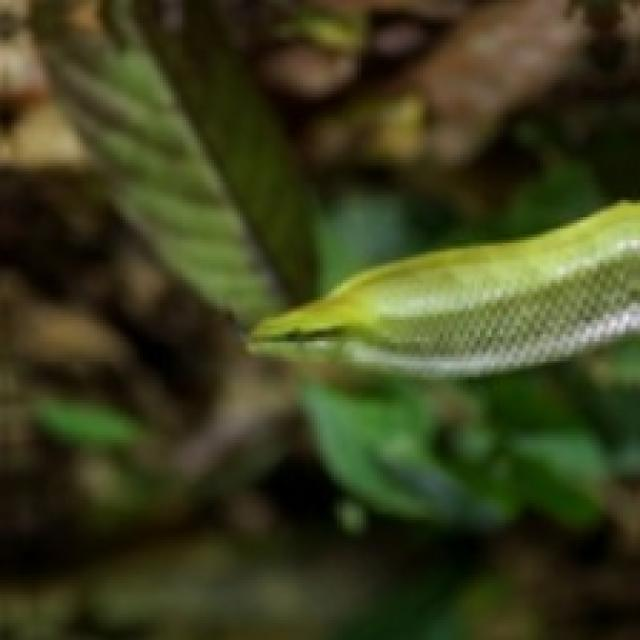red-tailed green ratsnake: (249, 203, 637, 374)
